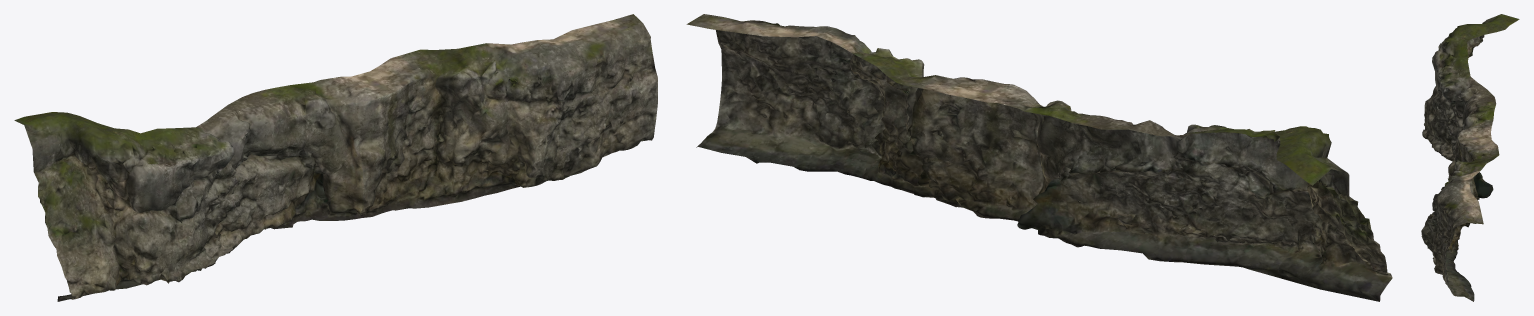
File: coastal_cliff_02-low.glb
The picture shows the model from 3 angles, left to right: view 1: azimuth 30°, elevation 25°; view 2: azimuth 150°, elevation 25°; view 3: azimuth 270°, elevation 25°; orthographic projection. The views are drawn at different scales.
Parts seen in each view (by area): view 1: coastal_cliff_02_LOD0; view 2: coastal_cliff_02_LOD0; view 3: coastal_cliff_02_LOD0.
Boxes of the visible parts, x1,y1,x2,y2 form: coastal_cliff_02_LOD0: (14, 14, 657, 301); coastal_cliff_02_LOD0: (686, 14, 1392, 301); coastal_cliff_02_LOD0: (1421, 14, 1519, 301).
Size of the model in its own units: 40.92 by 10.02 by 8.65.
Materials: 1 (1 with a texture image).
